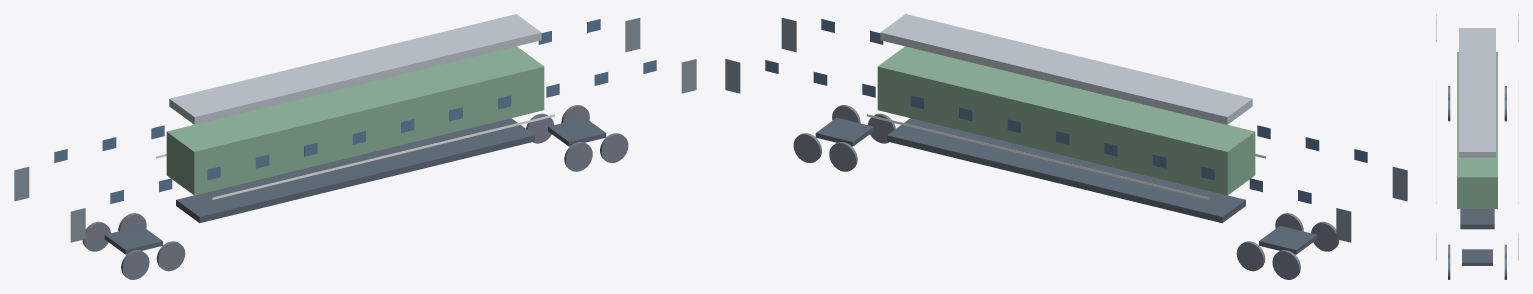
The model's file is LHB_Sleeper.glb.
3 views of the same model, side by side, from view 1: azimuth 30°, elevation 25°; view 2: azimuth 150°, elevation 25°; view 3: azimuth 270°, elevation 25° (orthographic). The views are drawn at different scales.
Visible parts, largest first — view 1: LHB_Sleeper; view 2: LHB_Sleeper; view 3: LHB_Sleeper.
Boxes of the visible parts, x1,y1,x2,y2 form: LHB_Sleeper: [14, 14, 696, 279]; LHB_Sleeper: [725, 14, 1407, 279]; LHB_Sleeper: [1436, 14, 1518, 279].
Bounding box in the file's own units: 21.04 × 4.53 × 3.29.
